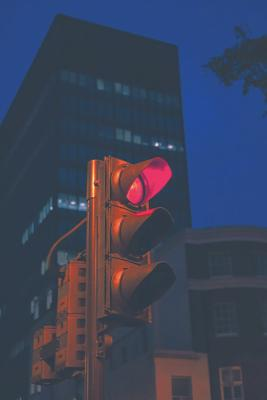International Road Signal Light: (102, 157, 177, 325)
